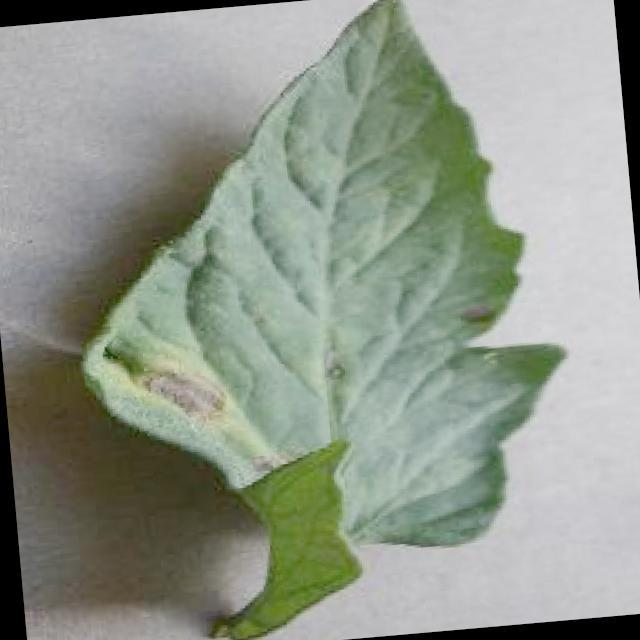Tomato Early blight leaf: (46, 0, 589, 640)
